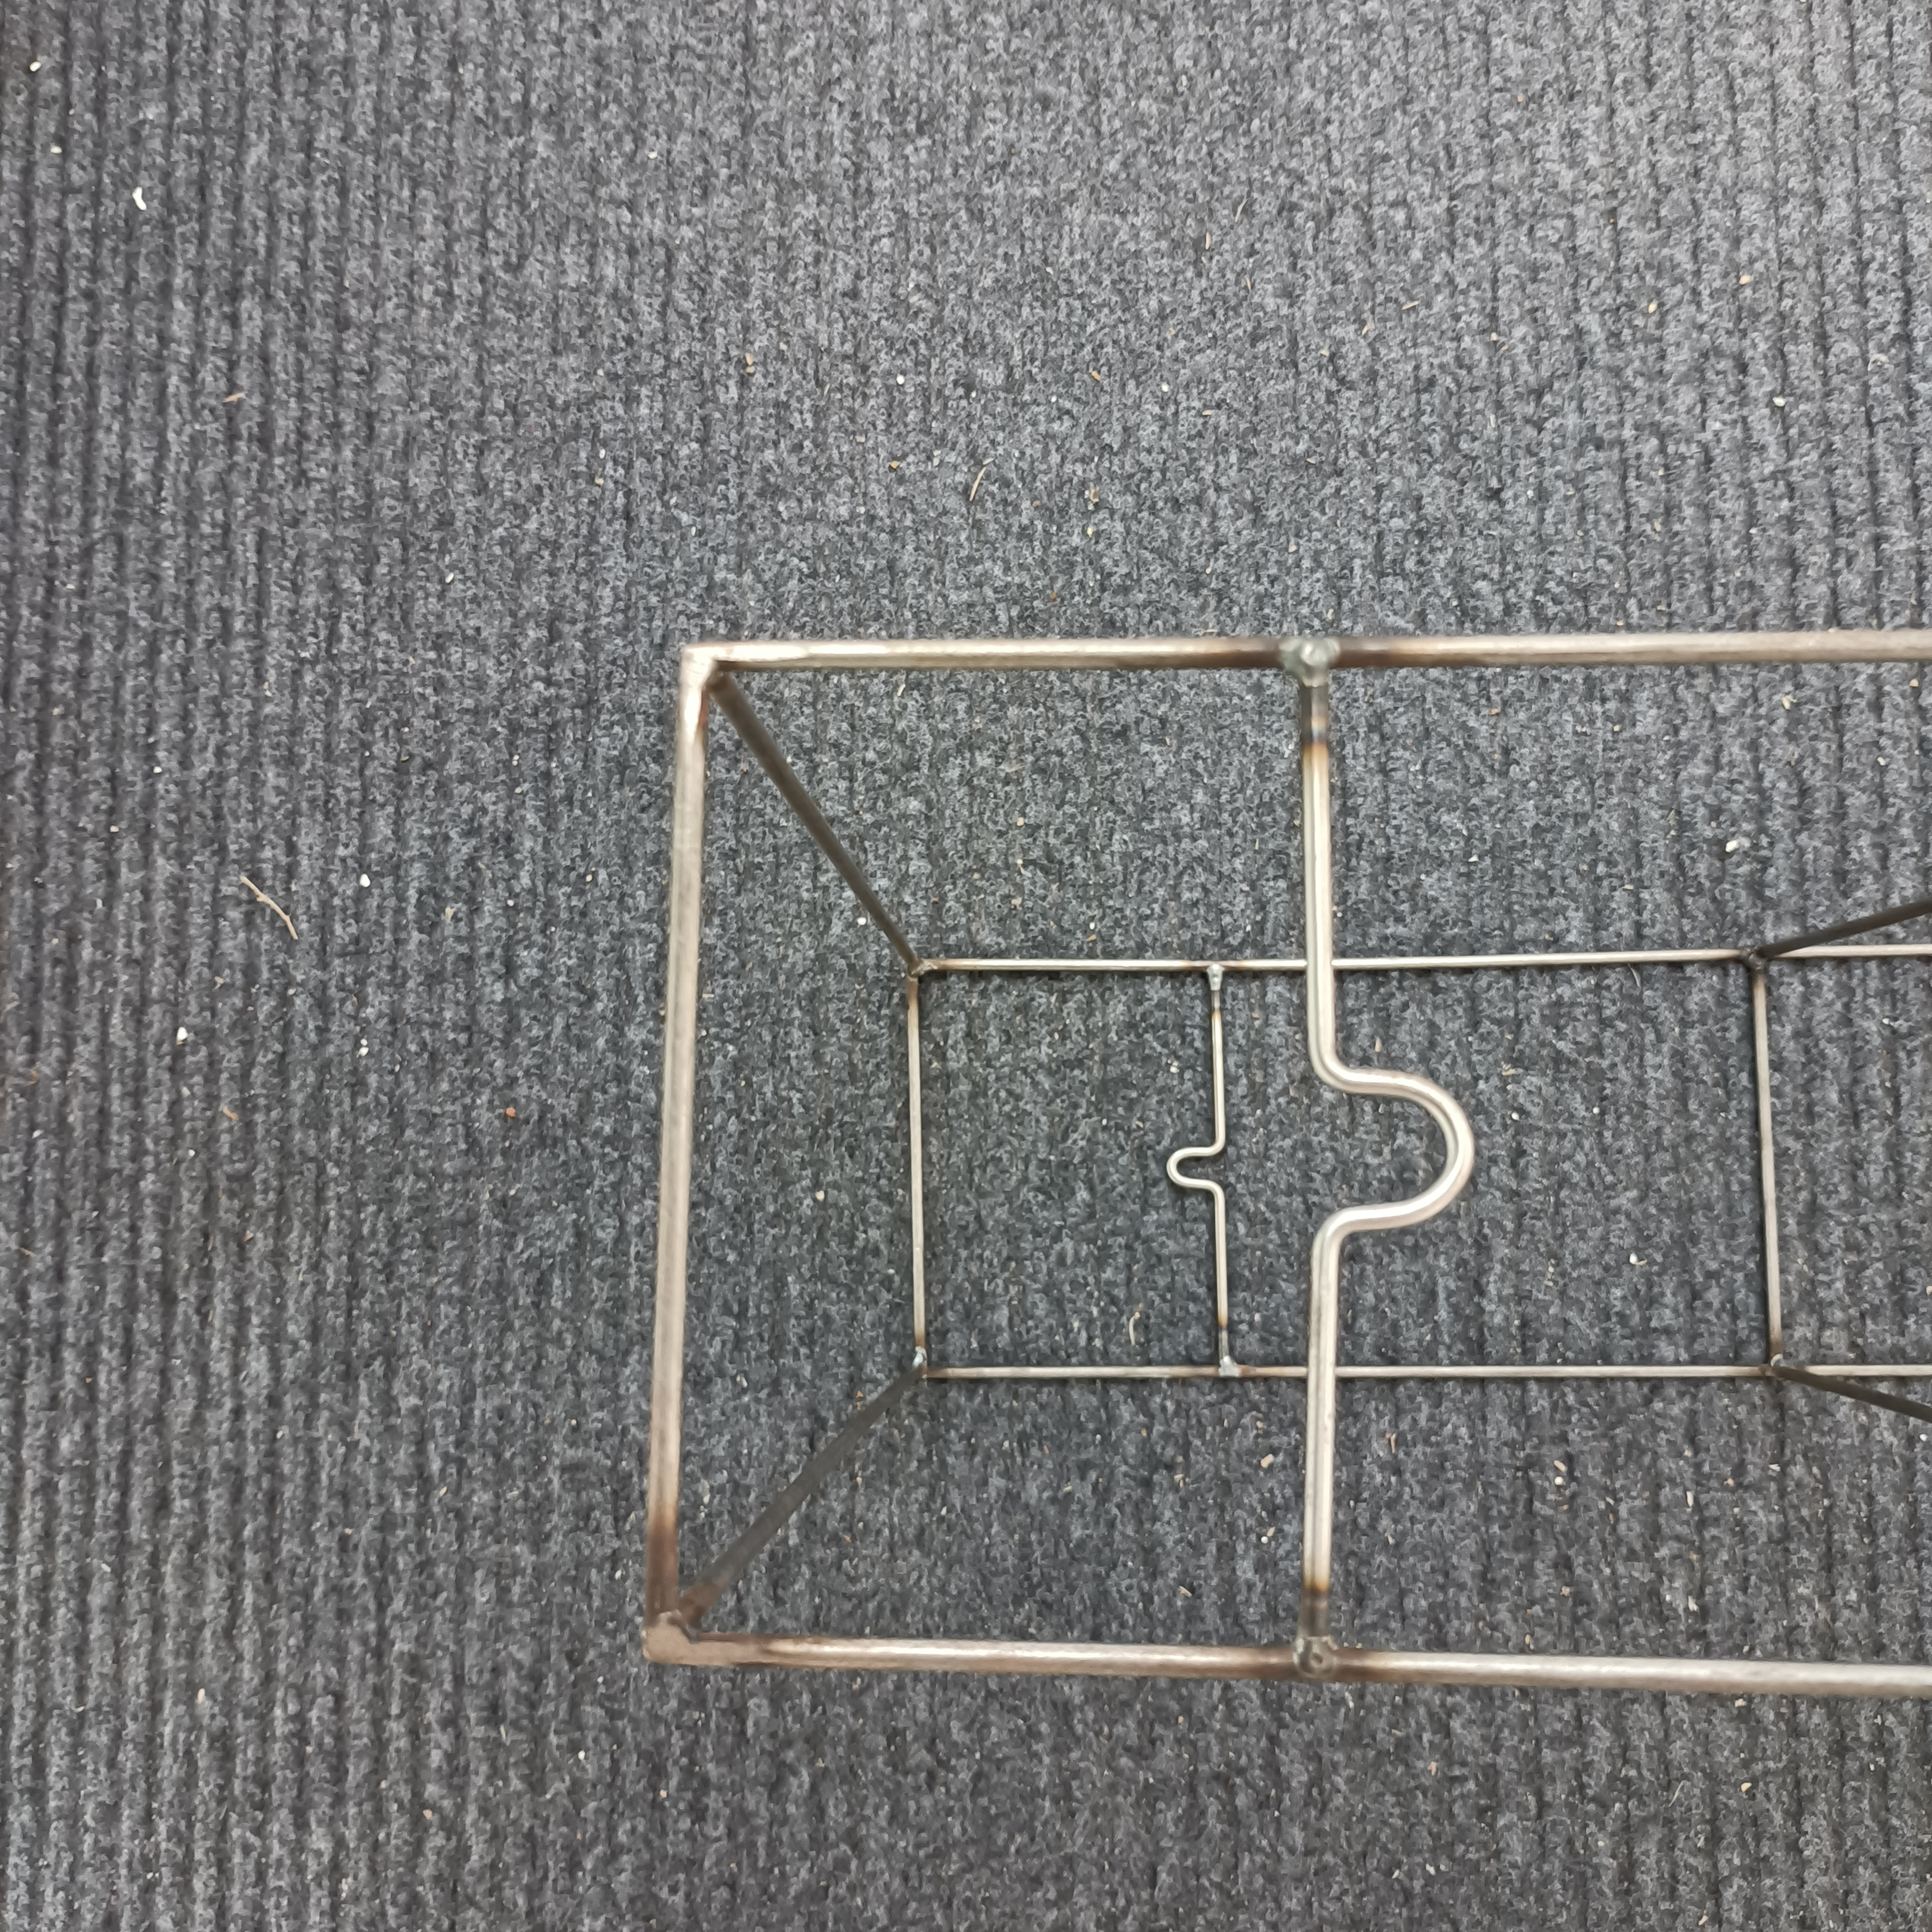curvedhole: (1000, 448, 1293, 637), (1111, 697, 1223, 775)
